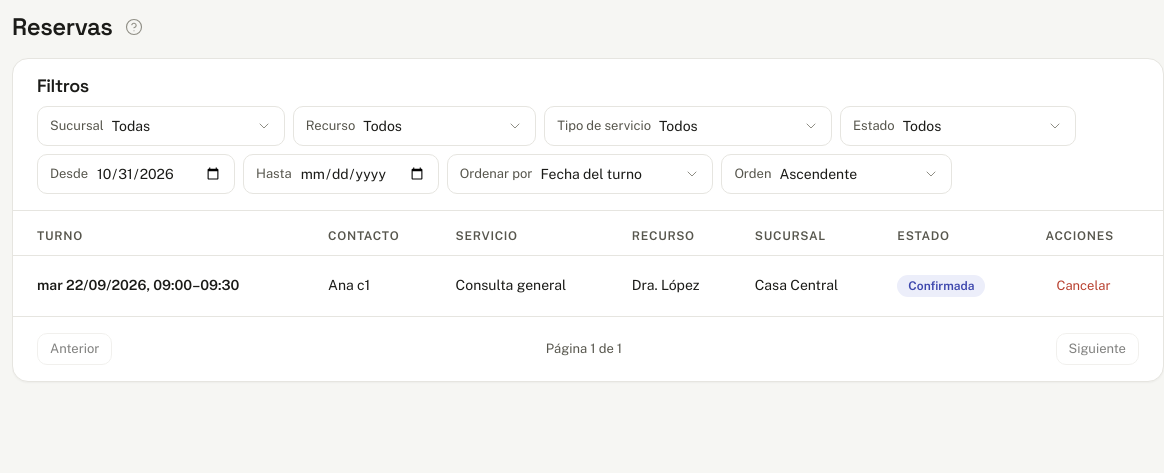
BookingListPage › un error al cancelar se muestra con el mensaje del backend
The image size is (1164, 473).
Click the button "Cancelar".
click(1084, 286)  # box [1046,270,1122,302]
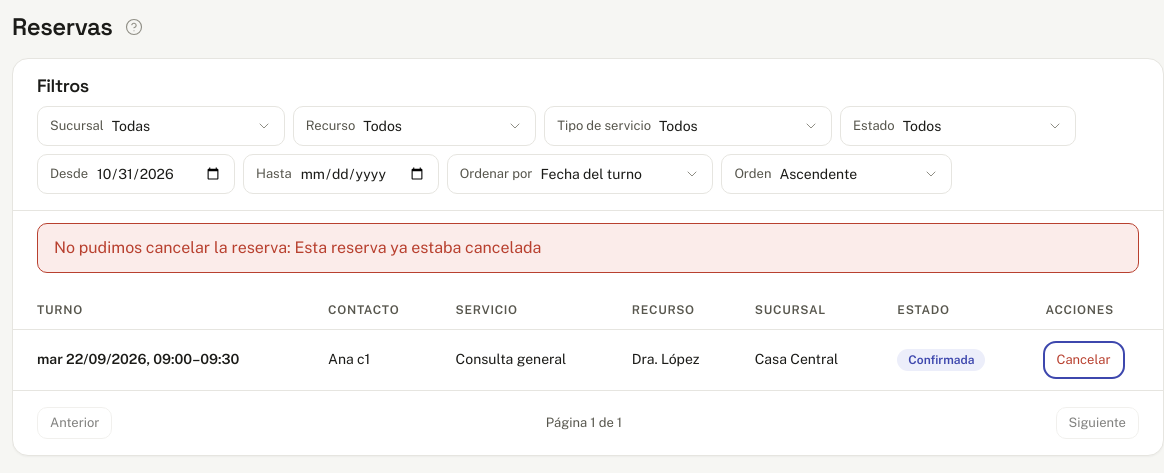
Check: the message reads "No pudimos cancelar la reserva: Esta reserva ya estaba cancelada", box [37,222,1139,272]
